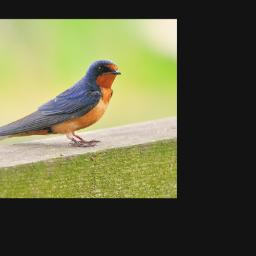Swallow: (0, 56, 125, 153)
